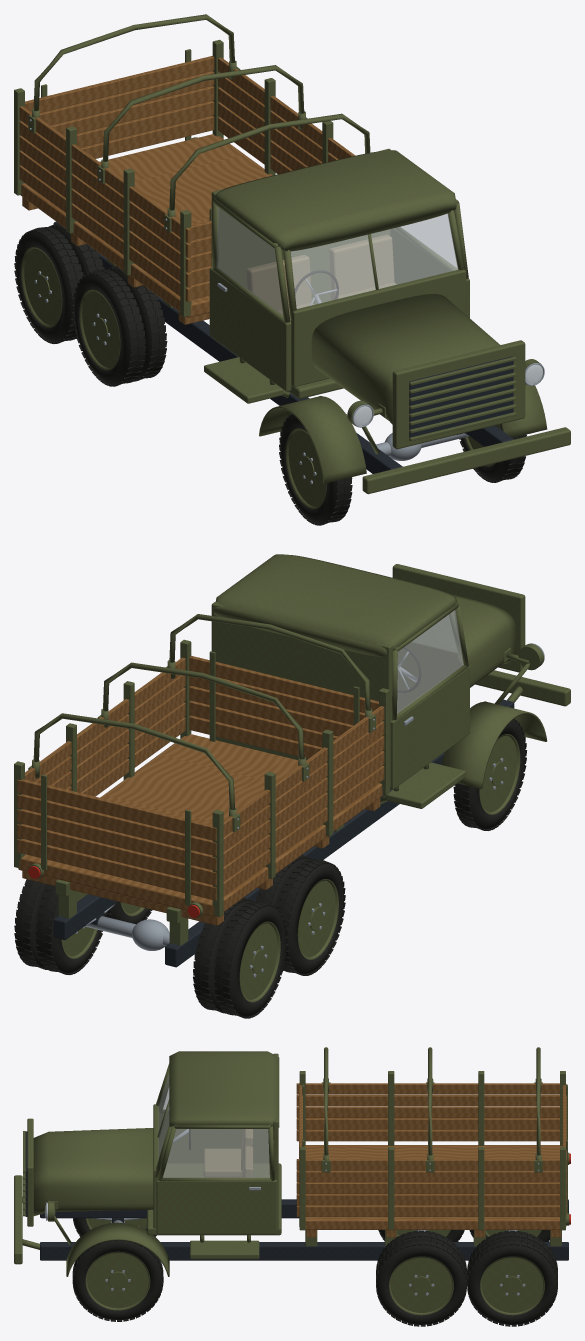
File: military-truck.glb
The picture shows the model from 3 angles, top to bottom: view 1: azimuth 30°, elevation 25°; view 2: azimuth 150°, elevation 25°; view 3: azimuth 270°, elevation 25°; orthographic projection. The views are drawn at different scales.
Visible parts, largest first — view 1: Rounded closed cab roof, Tapered truck hood, Cargo bed transverse deck, Truck transparent split windshield, Cab door lower shell, Cab dashboard bulkhead, Open wheel mudguard shell, Truck grille surround, Cab rear wall, Front truck bumper, Cab side window, Truck radiator core (+37 smaller); view 2: Rounded closed cab roof, Cargo bed transverse deck, Cab rear wall, Cab door lower shell, Tapered truck hood, Cab side window, Open wheel mudguard shell, Truck grille surround, Cargo end timber board.009, Cargo end timber board.008, Cargo end timber board.007, Cargo end timber board.005 (+48 smaller); view 3: Tapered truck hood, Rounded closed cab roof, Cargo bed transverse deck, Cab door lower shell.001, Cab side window.001, Truck ladder chassis rail.001, Cargo side timber board.008, Cargo side timber board, Cargo side timber board.007, Cargo side timber board.005, Cargo side timber board.006, Cargo side timber board.001 (+35 smaller).
Boxes of the visible parts, bbox=[...] form: Rounded closed cab roof: bbox=[215, 150, 456, 251]; Tapered truck hood: bbox=[311, 294, 499, 424]; Cargo bed transverse deck: bbox=[20, 134, 272, 317]; Truck transparent split windshield: bbox=[291, 213, 457, 308]; Cab door lower shell: bbox=[209, 267, 291, 391]; Cab dashboard bulkhead: bbox=[291, 269, 466, 386]; Open wheel mudguard shell: bbox=[259, 396, 366, 483]; Truck grille surround: bbox=[392, 340, 525, 449]; Cab rear wall: bbox=[211, 148, 390, 304]; Front truck bumper: bbox=[362, 427, 570, 494]; Cab side window: bbox=[216, 207, 282, 315]; Truck radiator core: bbox=[409, 356, 513, 440]; Rounded closed cab roof: bbox=[213, 554, 456, 656]; Cargo bed transverse deck: bbox=[18, 734, 383, 917]; Cab rear wall: bbox=[211, 602, 392, 787]; Cab door lower shell: bbox=[390, 666, 469, 789]; Tapered truck hood: bbox=[416, 594, 516, 687]; Cab side window: bbox=[397, 610, 463, 713]; Open wheel mudguard shell: bbox=[441, 701, 547, 789]; Truck grille surround: bbox=[392, 564, 525, 672]; Cargo end timber board.009: bbox=[17, 779, 216, 841]; Cargo end timber board.008: bbox=[17, 794, 216, 855]; Cargo end timber board.007: bbox=[17, 809, 216, 870]; Cargo end timber board.005: bbox=[17, 839, 216, 900]; Tapered truck hood: bbox=[33, 1128, 153, 1215]; Rounded closed cab roof: bbox=[169, 1051, 279, 1127]; Cargo bed transverse deck: bbox=[304, 1145, 562, 1229]; Cab door lower shell.001: bbox=[156, 1180, 277, 1234]; Cab side window.001: bbox=[163, 1129, 269, 1177]; Truck ladder chassis rail.001: bbox=[40, 1242, 568, 1260]; Cargo side timber board.008: bbox=[296, 1170, 559, 1182]; Cargo side timber board: bbox=[296, 1129, 559, 1141]; Cargo side timber board.007: bbox=[296, 1182, 559, 1193]; Cargo side timber board.005: bbox=[296, 1205, 559, 1216]; Cargo side timber board.006: bbox=[296, 1194, 559, 1205]; Cargo side timber board.001: bbox=[296, 1118, 559, 1129].
Bounding box in the file's own units: 2.32 × 2.75 × 6.42.
Materials: 10 (10 with a texture image).
